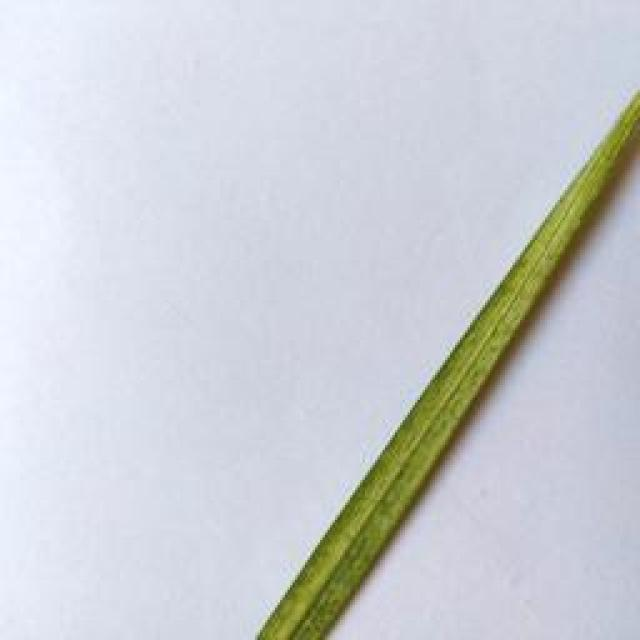Healthy-Plant: (262, 85, 640, 640)
